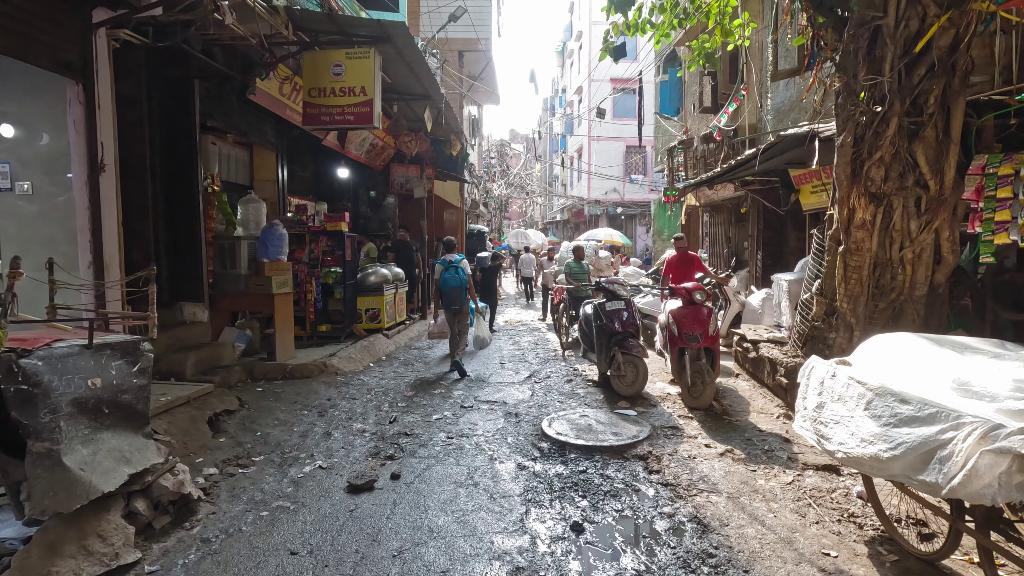garbage: (469, 307, 493, 352)
